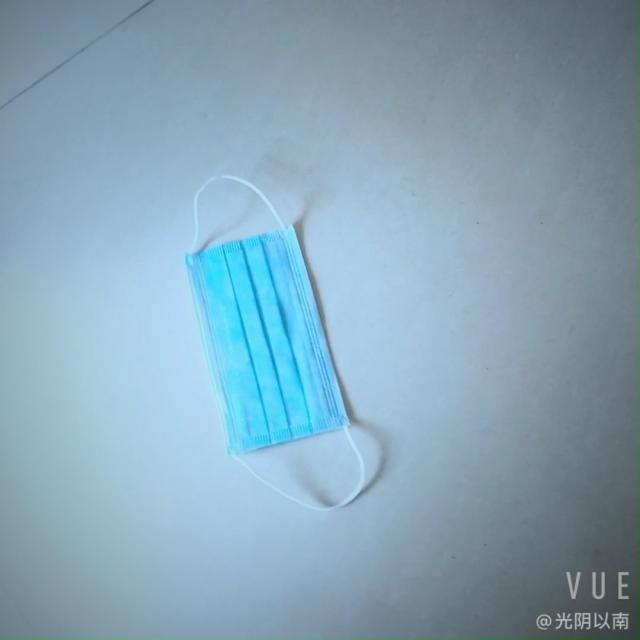face mask: (178, 226, 346, 467)
